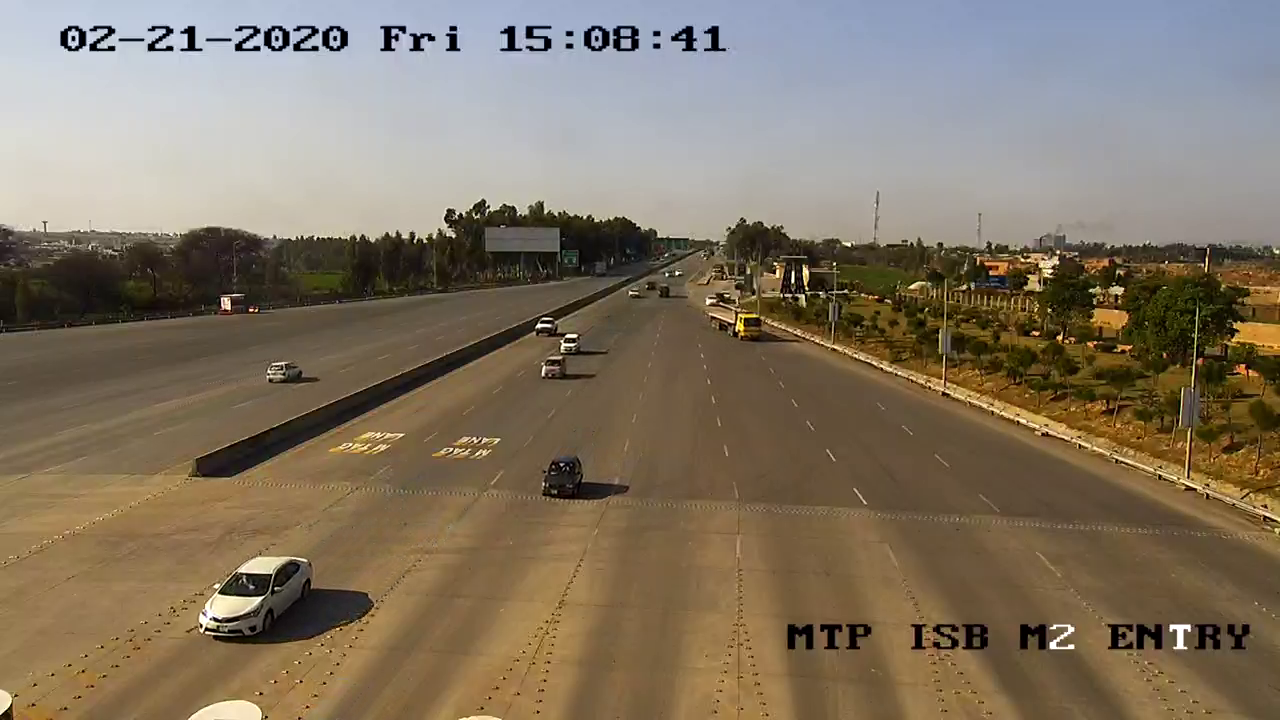f1: (190, 544, 320, 648), (531, 446, 595, 506)
